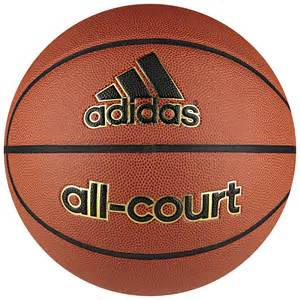basketball: (2, 3, 300, 299)
